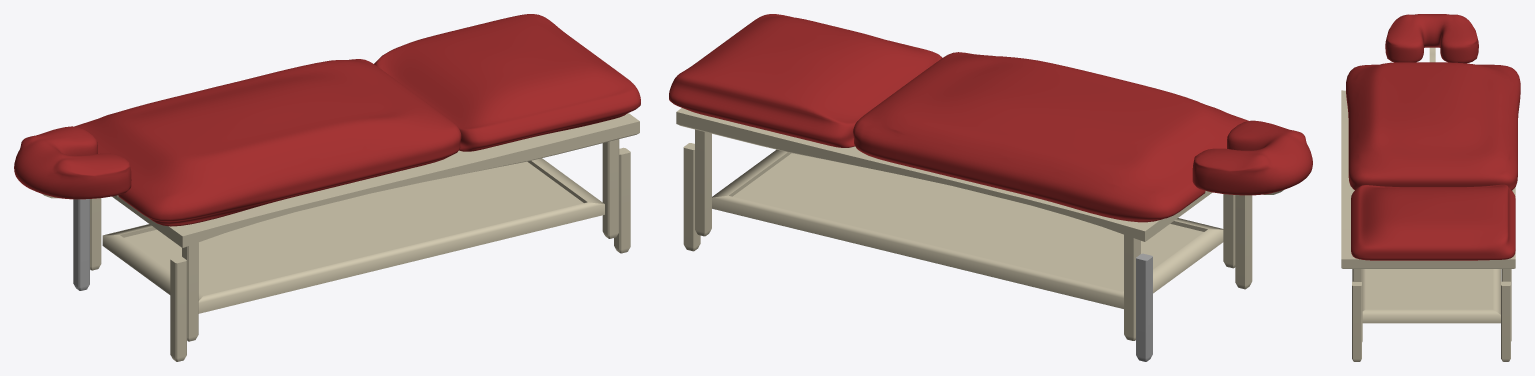
File: Massage_Table1.fbx
3 renders of one model, left to right at view 1: azimuth 30°, elevation 25°; view 2: azimuth 150°, elevation 25°; view 3: azimuth 270°, elevation 25°, orthographic. The views are drawn at different scales.
Visible parts, largest first — view 1: pCube14, pCube19, pCube18, pCube3; view 2: pCube14, pCube19, pCube18, pCube3; view 3: pCube14, pCube19, pCube18.
Part boxes in pixels (x1,y1,x2,y2): pCube14: (74,14,640,226); pCube19: (42,113,639,361); pCube18: (14,126,131,199); pCube3: (73,199,89,290); pCube14: (669,14,1248,222); pCube19: (676,108,1283,340); pCube18: (1192,120,1312,195); pCube3: (1136,253,1152,361); pCube14: (1346,62,1520,260); pCube19: (1341,47,1515,361); pCube18: (1385,14,1478,63).
Bounding box in the file's own units: 11.66 × 3.78 × 4.11.
